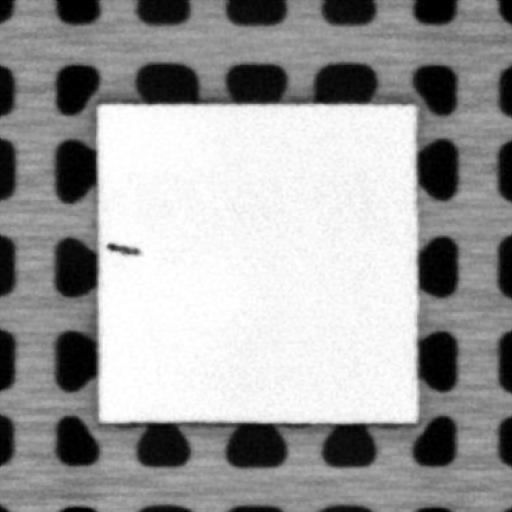DIE_INK: (104, 238, 140, 255)
